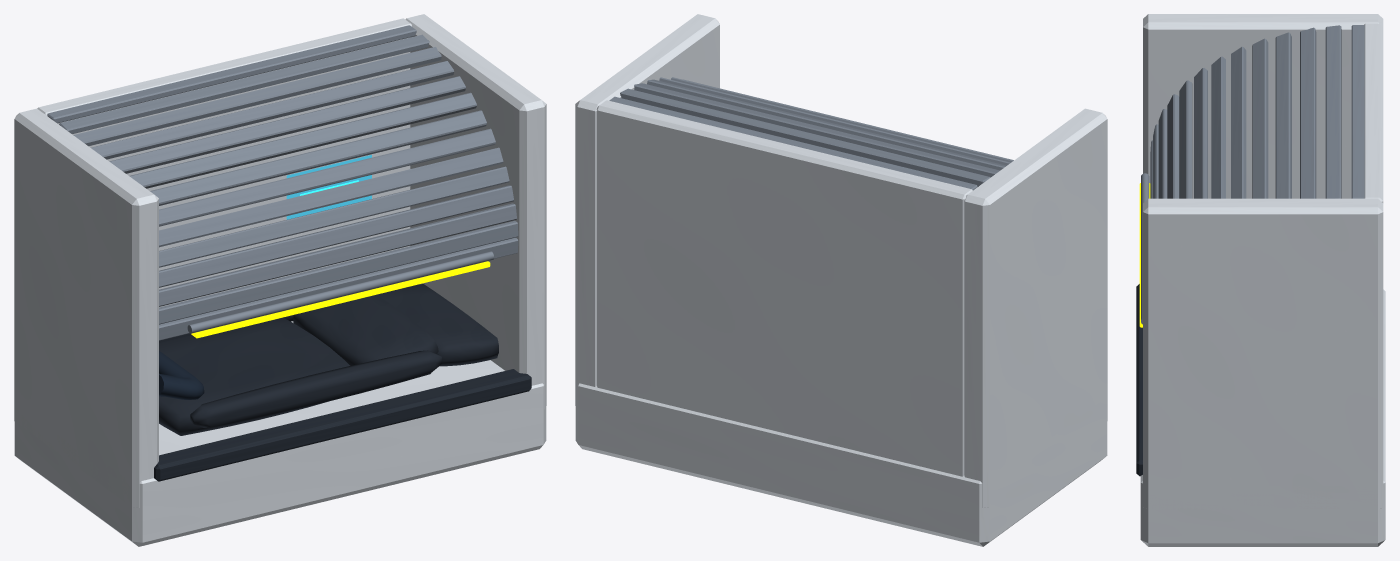
The model's file is bunk_r1_04.glb.
3 renders of one model, left to right at view 1: azimuth 30°, elevation 25°; view 2: azimuth 150°, elevation 25°; view 3: azimuth 270°, elevation 25°, orthographic. The views are drawn at different scales.
Parts seen in each view (by area): view 1: BlastPod_AerospaceShell, BlastPod_SegmentedTitaniumShutter, BlastPod_CharcoalFlightCouch, BlastPod_AmberStatusStrip, BlastPod_CranialCradle, BlastPod_InteriorTelemetryHUD; view 2: BlastPod_AerospaceShell, BlastPod_SegmentedTitaniumShutter; view 3: BlastPod_AerospaceShell, BlastPod_SegmentedTitaniumShutter, BlastPod_CharcoalFlightCouch, BlastPod_AmberStatusStrip.
Part boxes in pixels (box(x1,y1,x2,y2)): BlastPod_AerospaceShell: box(14, 14, 546, 546); BlastPod_SegmentedTitaniumShutter: box(47, 25, 518, 340); BlastPod_CharcoalFlightCouch: box(154, 284, 531, 481); BlastPod_AmberStatusStrip: box(191, 261, 490, 338); BlastPod_CranialCradle: box(159, 351, 204, 399); BlastPod_InteriorTelemetryHUD: box(286, 155, 371, 219); BlastPod_AerospaceShell: box(575, 14, 1107, 546); BlastPod_SegmentedTitaniumShutter: box(609, 77, 1013, 190); BlastPod_AerospaceShell: box(1140, 14, 1385, 546); BlastPod_SegmentedTitaniumShutter: box(1141, 25, 1364, 324); BlastPod_CharcoalFlightCouch: box(1136, 284, 1142, 476); BlastPod_AmberStatusStrip: box(1139, 183, 1150, 327).
Size of the model in its own units: 2.14 by 1.72 by 1.14.
Materials: 6 (6 with a texture image).
